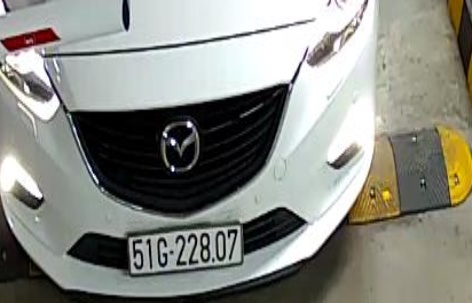plate: (122, 224, 246, 271)
